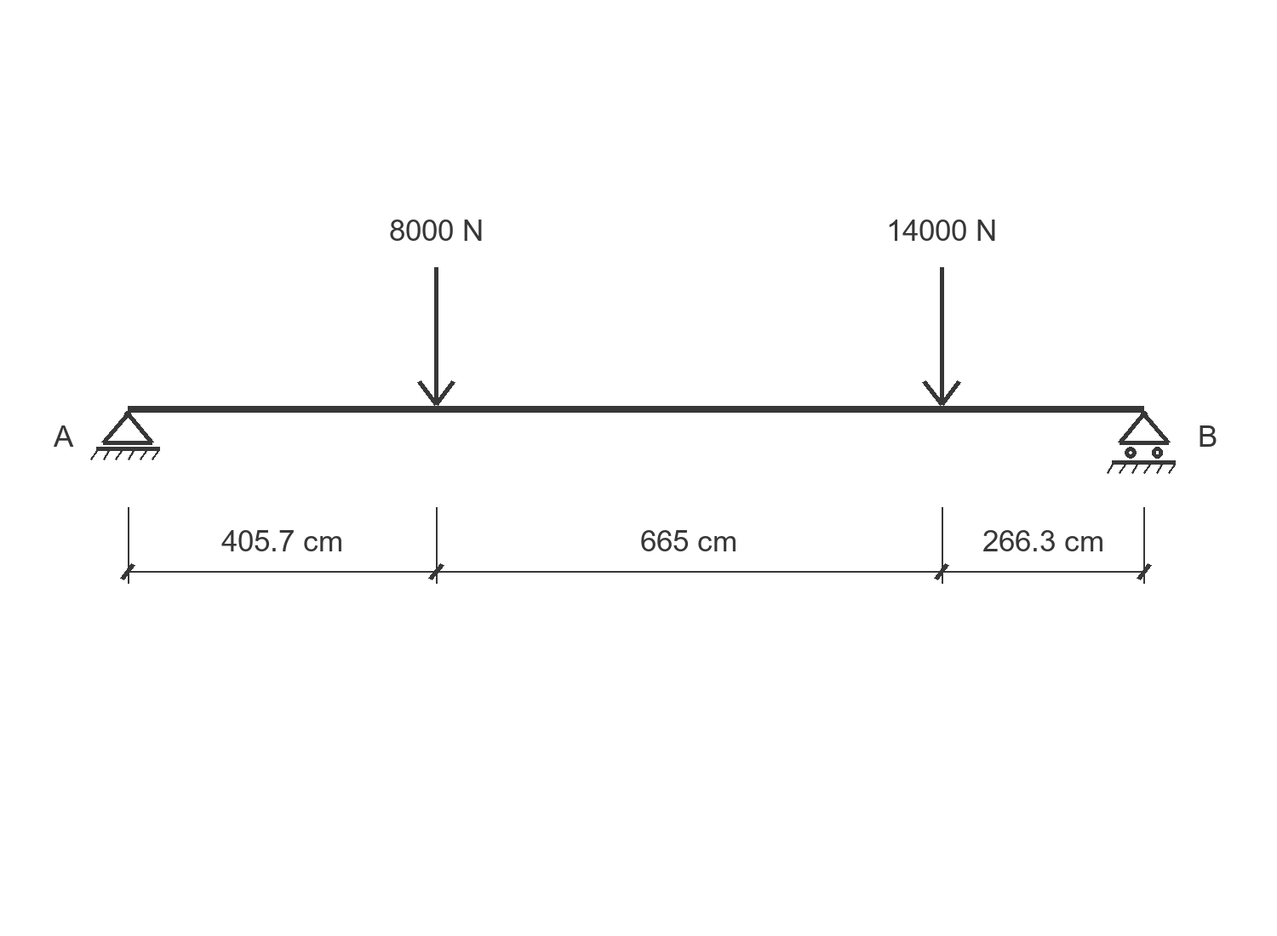pin_support: (90, 411, 160, 460)
point_load: (922, 267, 961, 406), (417, 267, 455, 406)
roller_support: (1107, 411, 1176, 474)
